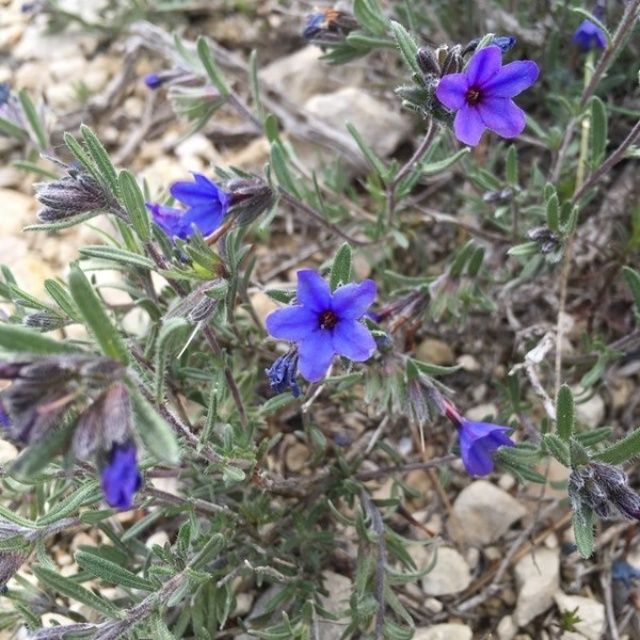obstacle: (41, 123, 386, 551)
